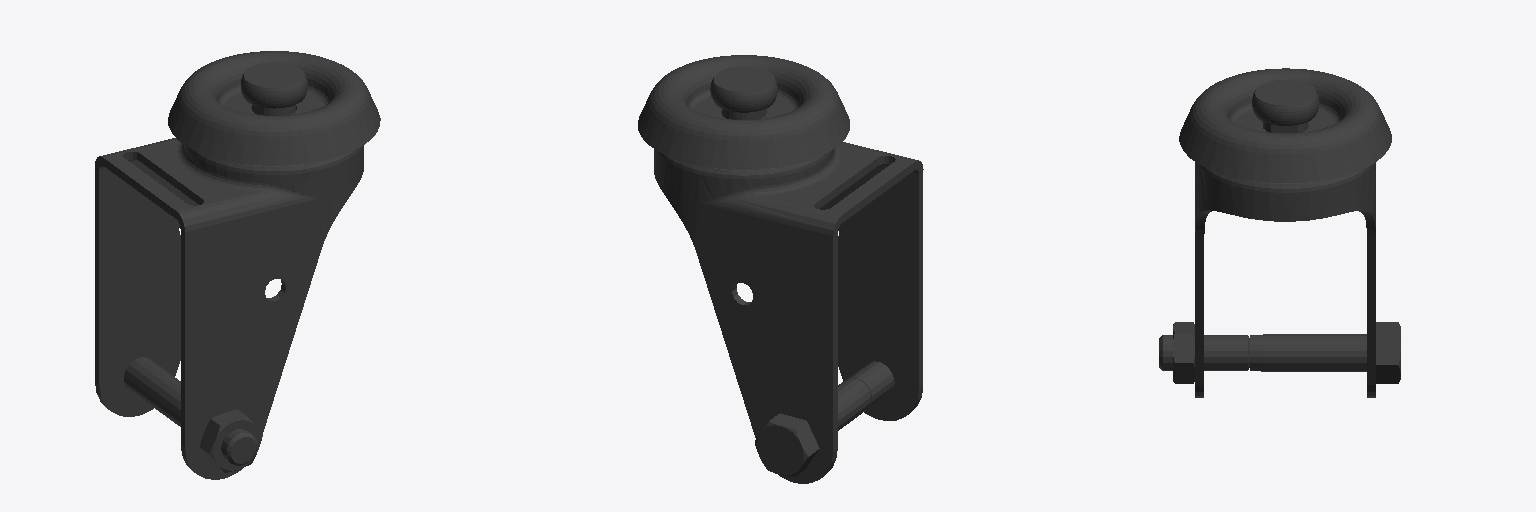
File: caster_bracket.obj
3 renders of one model, left to right at view 1: azimuth 30°, elevation 25°; view 2: azimuth 150°, elevation 25°; view 3: azimuth 270°, elevation 25°, orthographic.
Visible parts, largest first — view 1: caster_bracket_caster bracket; view 2: caster_bracket_caster bracket; view 3: caster_bracket_caster bracket.
Part boxes in pixels (x1,y1,x2,y2): caster_bracket_caster bracket: (95,51,380,479); caster_bracket_caster bracket: (638,55,923,483); caster_bracket_caster bracket: (1159,68,1400,397).
Size of the model in its own units: 0.0921 by 0.1348 by 0.0849.